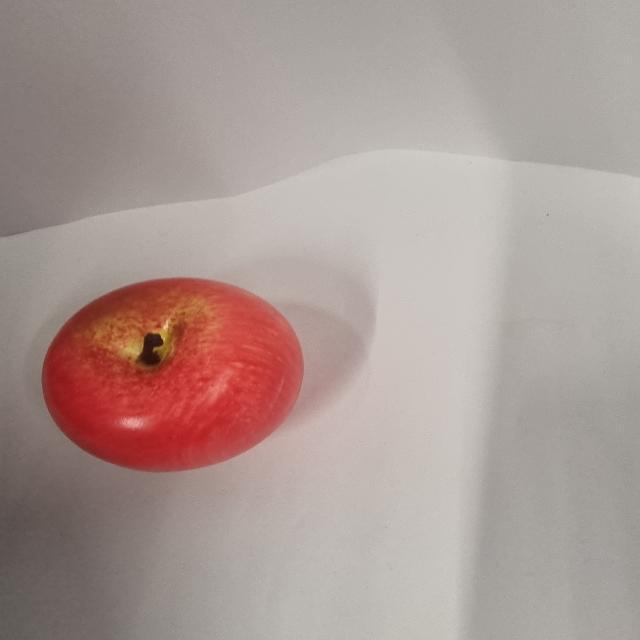apple: (43, 276, 304, 472)
